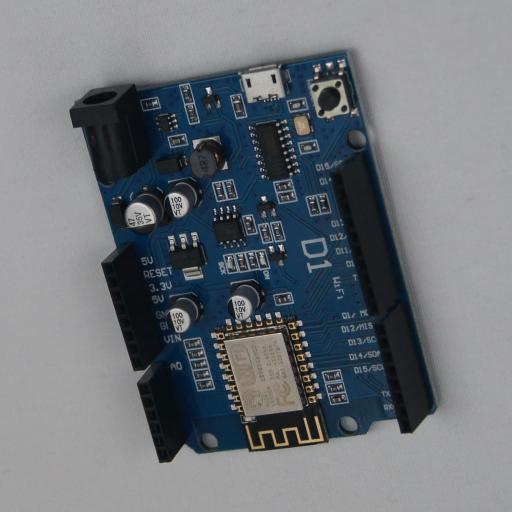Arduino Uno WiFi Shield: (69, 50, 441, 463)
